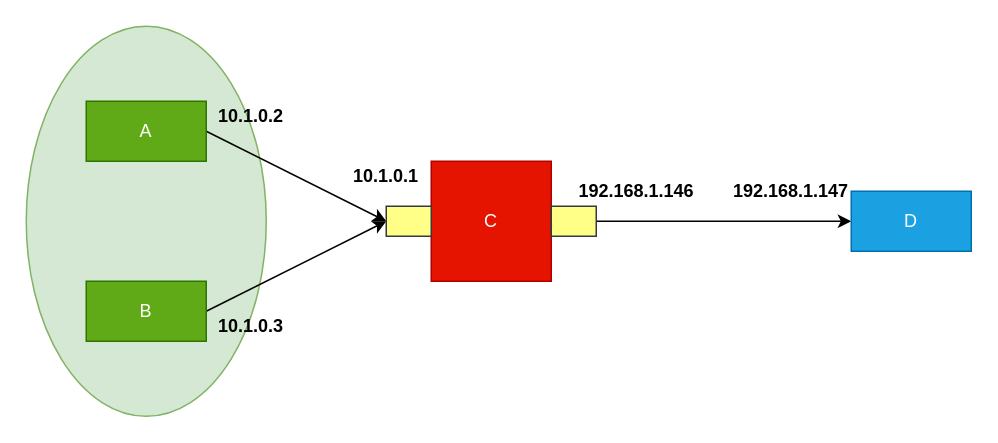
This 998x443 diagram has some shape labels left out. The centre of each missing label's shape, as x and y in pixels:
eth0: the point at 408,220
eth1: the point at 573,220
